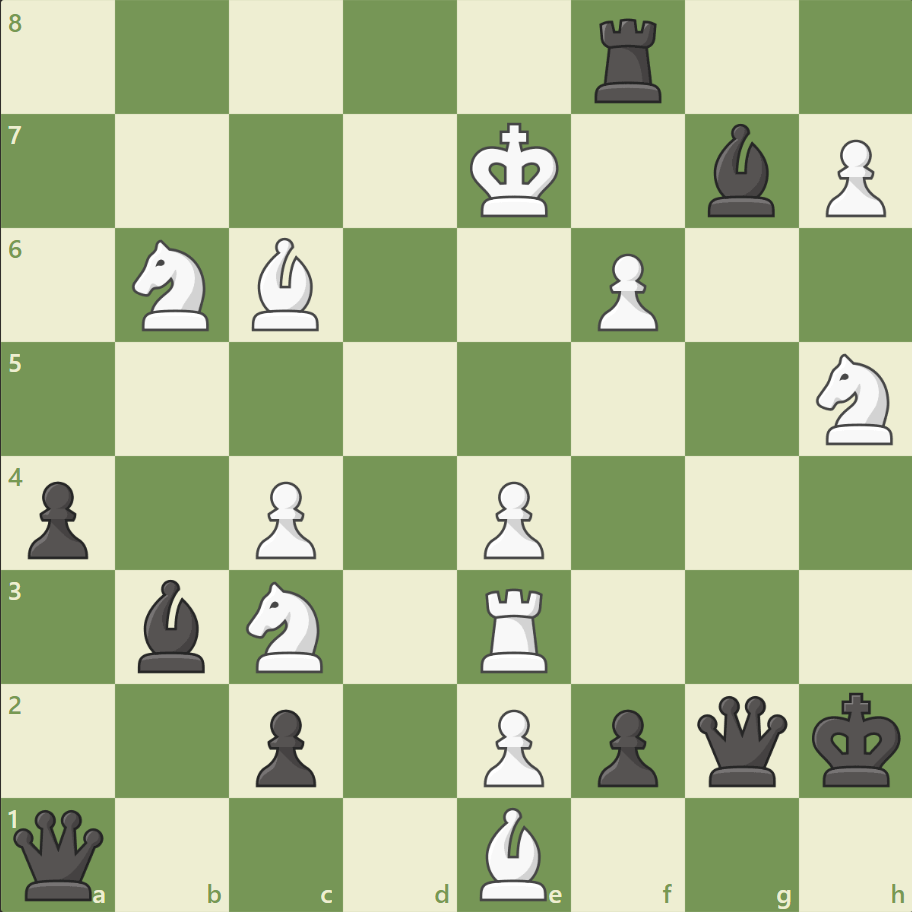B: (244, 233, 328, 336), (471, 801, 555, 904)
K: (465, 117, 565, 225)
N: (124, 234, 222, 337), (806, 348, 903, 450), (238, 575, 335, 677)
P: (247, 473, 322, 564), (474, 473, 549, 564), (474, 700, 549, 791), (815, 132, 889, 223), (588, 246, 662, 337)
R: (473, 579, 556, 676)
b: (698, 120, 782, 222), (131, 574, 215, 676)
k: (806, 685, 906, 793)
p: (20, 473, 95, 564), (247, 700, 322, 791), (588, 700, 662, 791)
q: (691, 690, 790, 789), (10, 804, 109, 903)
r: (587, 12, 670, 109)
